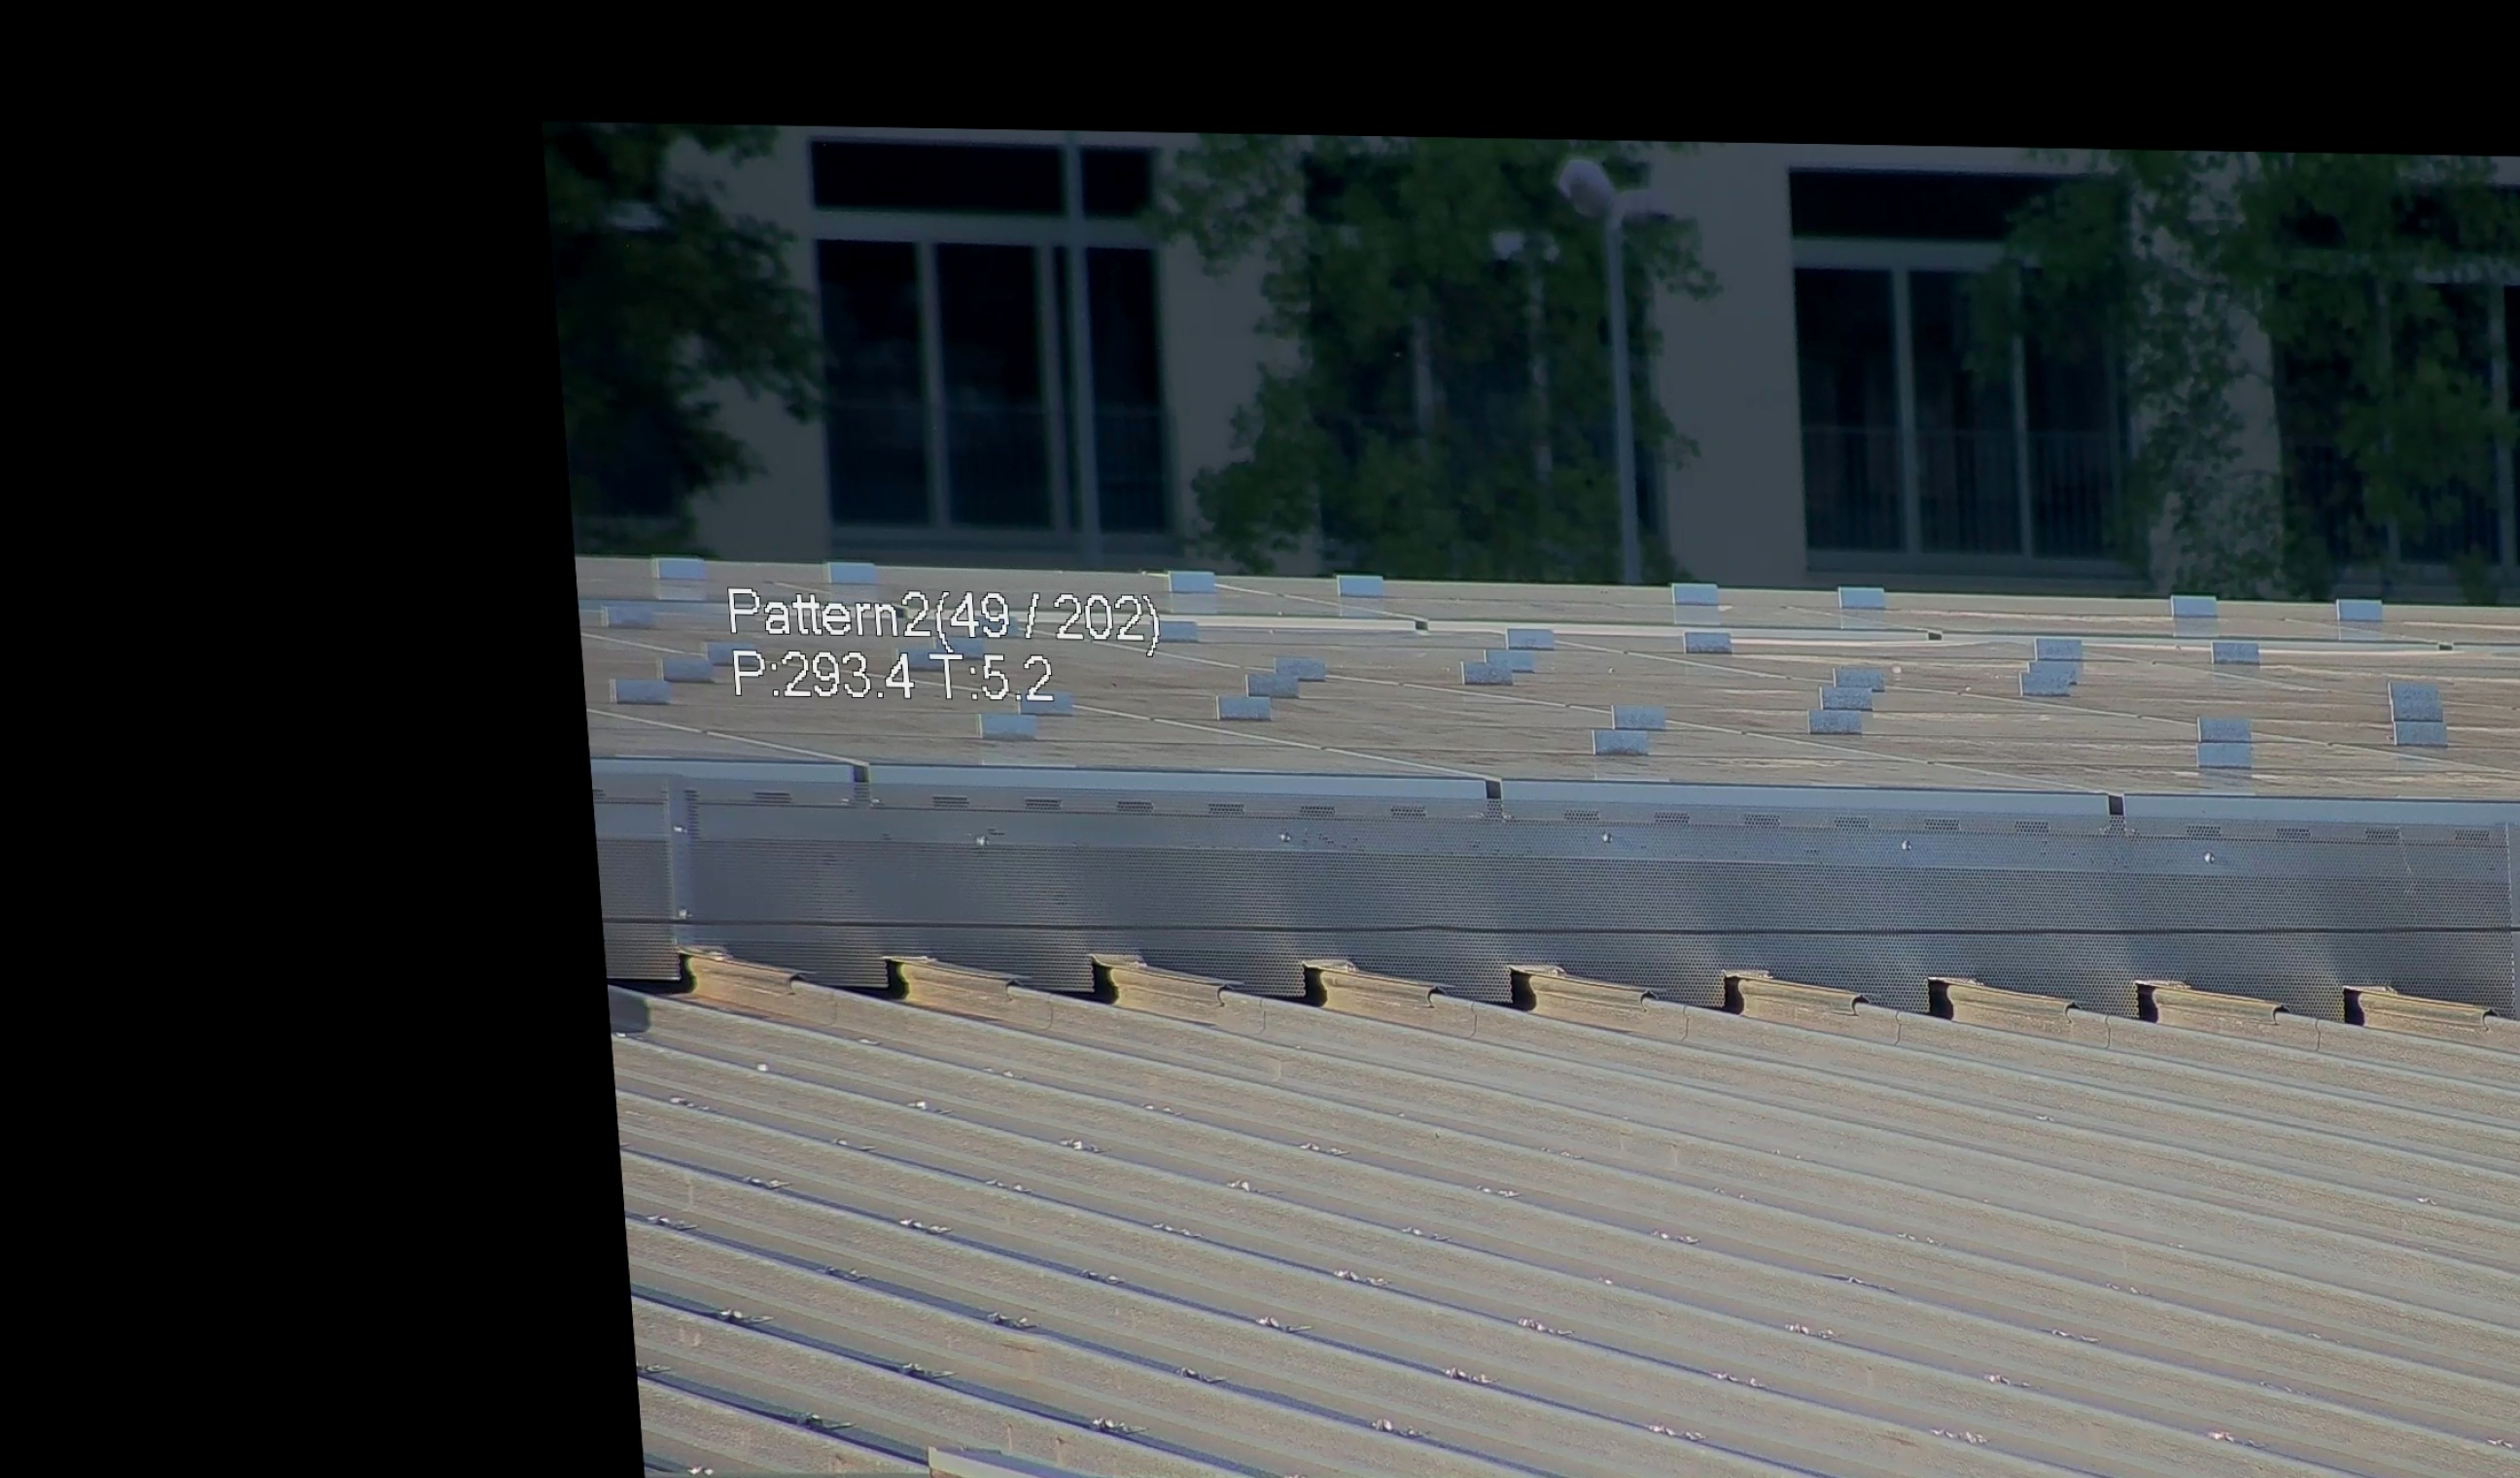Other: (1046, 945, 1111, 1008)
